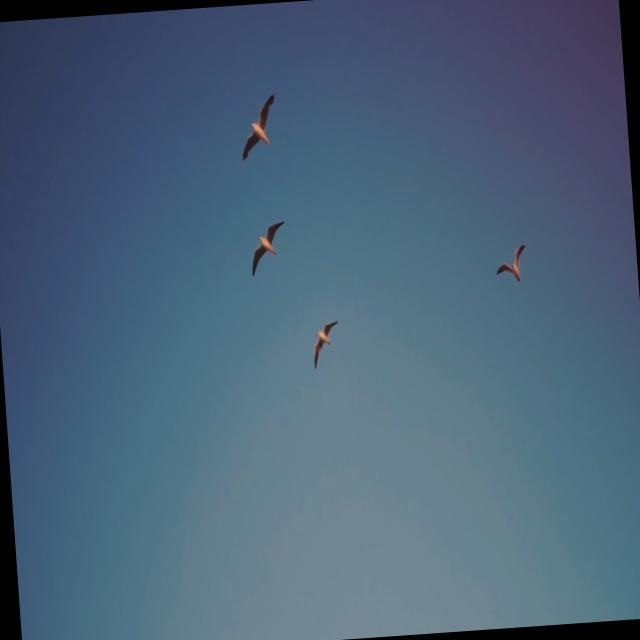bird: (233, 80, 281, 165), (246, 214, 289, 282), (308, 315, 345, 373), (491, 234, 529, 290)
